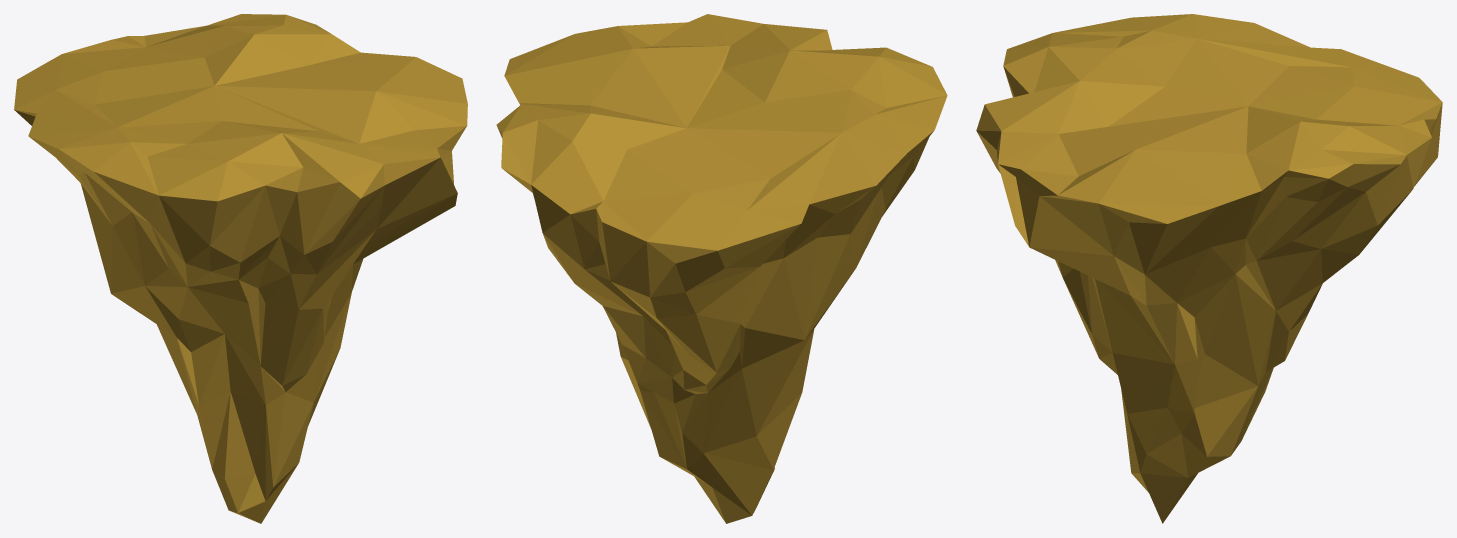
Rendered from ENV_Floating_Island_01.fbx.
The picture shows the model from 3 angles, left to right: view 1: azimuth 30°, elevation 25°; view 2: azimuth 150°, elevation 25°; view 3: azimuth 270°, elevation 25°; orthographic projection. The views are drawn at different scales.
Parts seen in each view (by area): view 1: ENV_Floating_Island_01; view 2: ENV_Floating_Island_01; view 3: ENV_Floating_Island_01.
Part boxes in pixels (<box>): ENV_Floating_Island_01: <box>14,14,467,523</box>; ENV_Floating_Island_01: <box>496,14,947,523</box>; ENV_Floating_Island_01: <box>976,14,1442,523</box>.
Bounding box in the file's own units: 4751 × 4934 × 4816.
